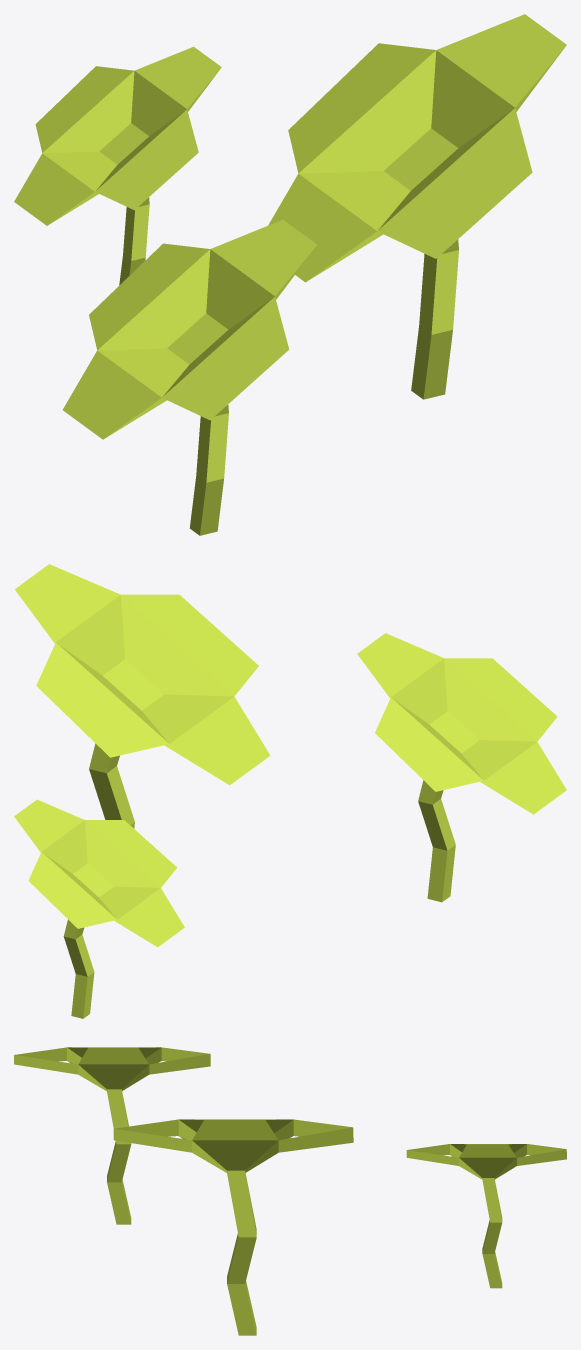
File: Flower.fbx
The picture shows the model from 3 angles, top to bottom: view 1: azimuth 30°, elevation 25°; view 2: azimuth 150°, elevation 25°; view 3: azimuth 270°, elevation 25°; orthographic projection. The views are drawn at different scales.
Visible parts, largest first — view 1: Flower; view 2: Flower; view 3: Flower.
Part boxes in pixels (left/top/right/bottom): Flower: left=14, top=14, right=566, bottom=535; Flower: left=14, top=564, right=566, bottom=1018; Flower: left=14, top=1047, right=566, bottom=1335.
Bounding box in the file's own units: 12.5 × 7.5 × 15.
